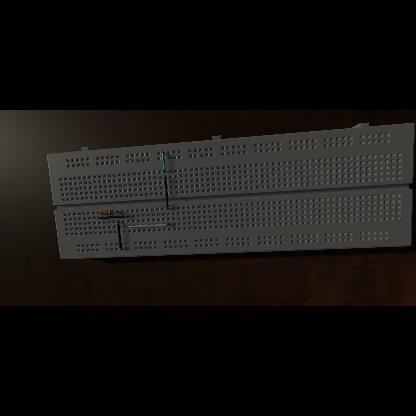breadboard: (47, 122, 415, 260)
resistor: (100, 211, 114, 215)
wire: (129, 224, 171, 228), (165, 177, 170, 209), (118, 222, 122, 250), (99, 216, 130, 219), (162, 153, 166, 173), (115, 211, 119, 212), (98, 212, 100, 214)
